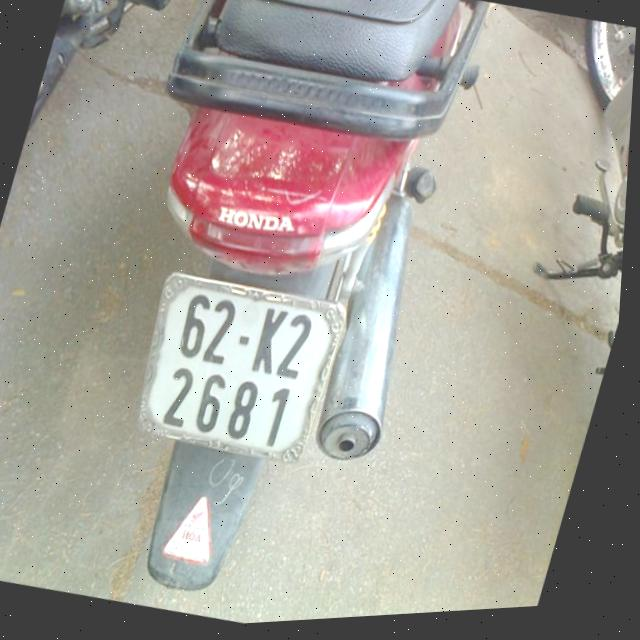motorcycle: (18, 0, 506, 637), (491, 12, 637, 316), (23, 0, 198, 170)
plate: (114, 255, 354, 480)
